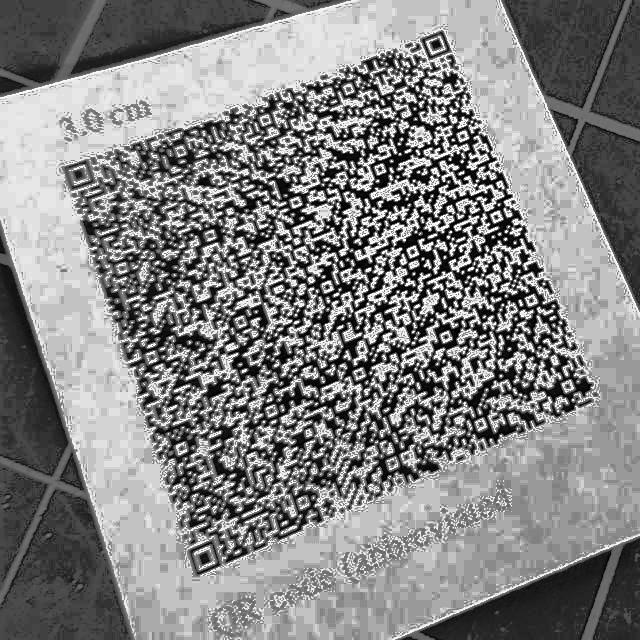qr_code: (49, 15, 616, 586)
